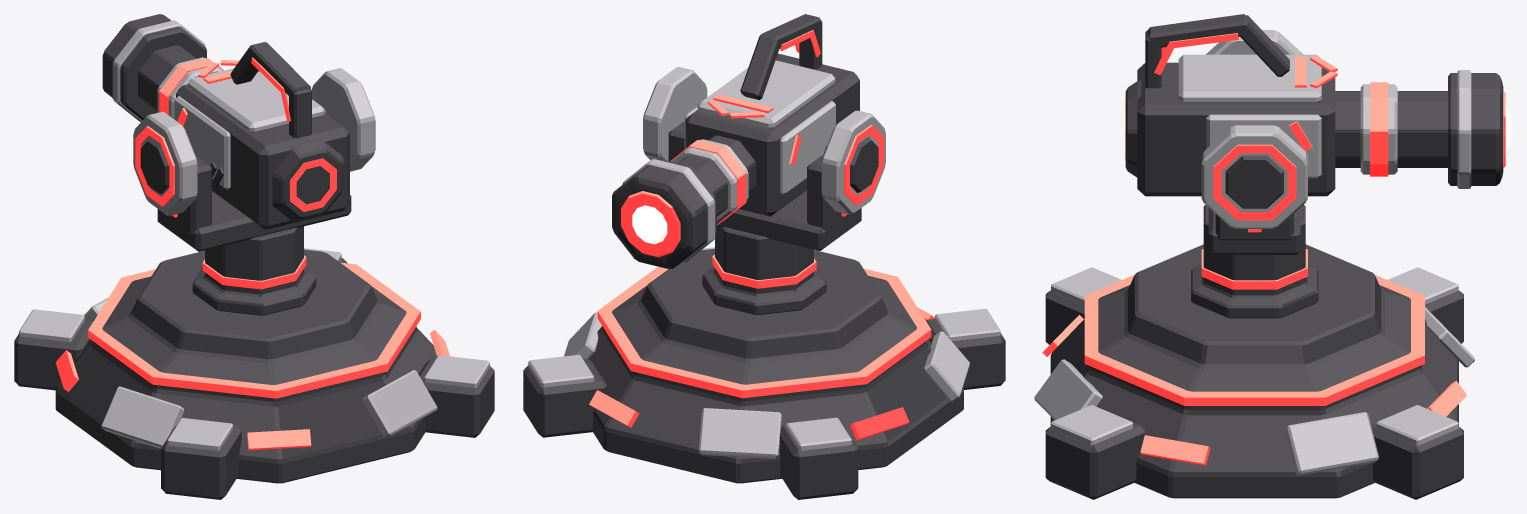
File: laser.glb
The picture shows the model from 3 angles, left to right: view 1: azimuth 30°, elevation 25°; view 2: azimuth 150°, elevation 25°; view 3: azimuth 270°, elevation 25°; orthographic projection. The views are drawn at different scales.
Parts seen in each view (by area): view 1: Base, Gun, Head; view 2: Base, Gun, Head; view 3: Base, Gun, Head.
Part boxes in pixels (x1,y1,x2,y2): Base: (14, 248, 494, 499); Gun: (102, 14, 375, 229); Head: (157, 134, 351, 315); Base: (523, 247, 1005, 499); Gun: (612, 14, 885, 269); Head: (668, 121, 861, 314); Base: (1034, 244, 1474, 499); Gun: (1125, 14, 1512, 228); Head: (1191, 204, 1318, 318).
Bounding box in the file's own units: 1.91 × 1.9 × 2.08.
